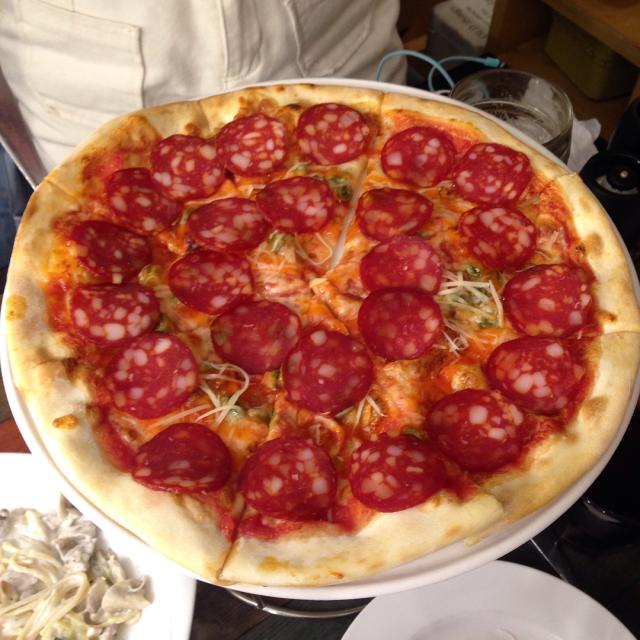pepperoni: (238, 436, 339, 524), (101, 332, 202, 419), (424, 387, 527, 471), (484, 332, 586, 416), (280, 328, 376, 416), (128, 420, 235, 498), (345, 434, 448, 515), (500, 261, 592, 343), (208, 298, 304, 376), (357, 286, 443, 364), (166, 250, 260, 318), (68, 282, 163, 348), (355, 234, 443, 305), (456, 201, 540, 273), (144, 132, 226, 202), (66, 218, 155, 282), (102, 168, 184, 236), (184, 195, 273, 256), (449, 142, 530, 208), (253, 175, 339, 236), (378, 125, 457, 190), (294, 101, 370, 168), (215, 112, 288, 180), (353, 187, 436, 246)
pizza: (3, 82, 638, 590)
